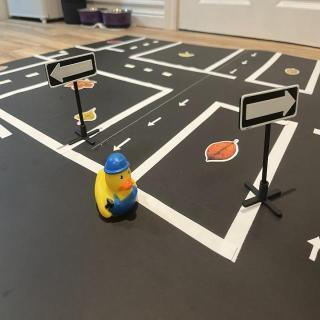duck_specialty: (95, 155, 142, 223)
road_oneway: (305, 230, 320, 270), (114, 136, 134, 155), (148, 117, 166, 131), (179, 98, 191, 112), (228, 68, 241, 76), (241, 59, 251, 68), (252, 53, 263, 59)
sign_oneway_left: (48, 53, 99, 89)
sign_oneway_right: (240, 86, 300, 130)
